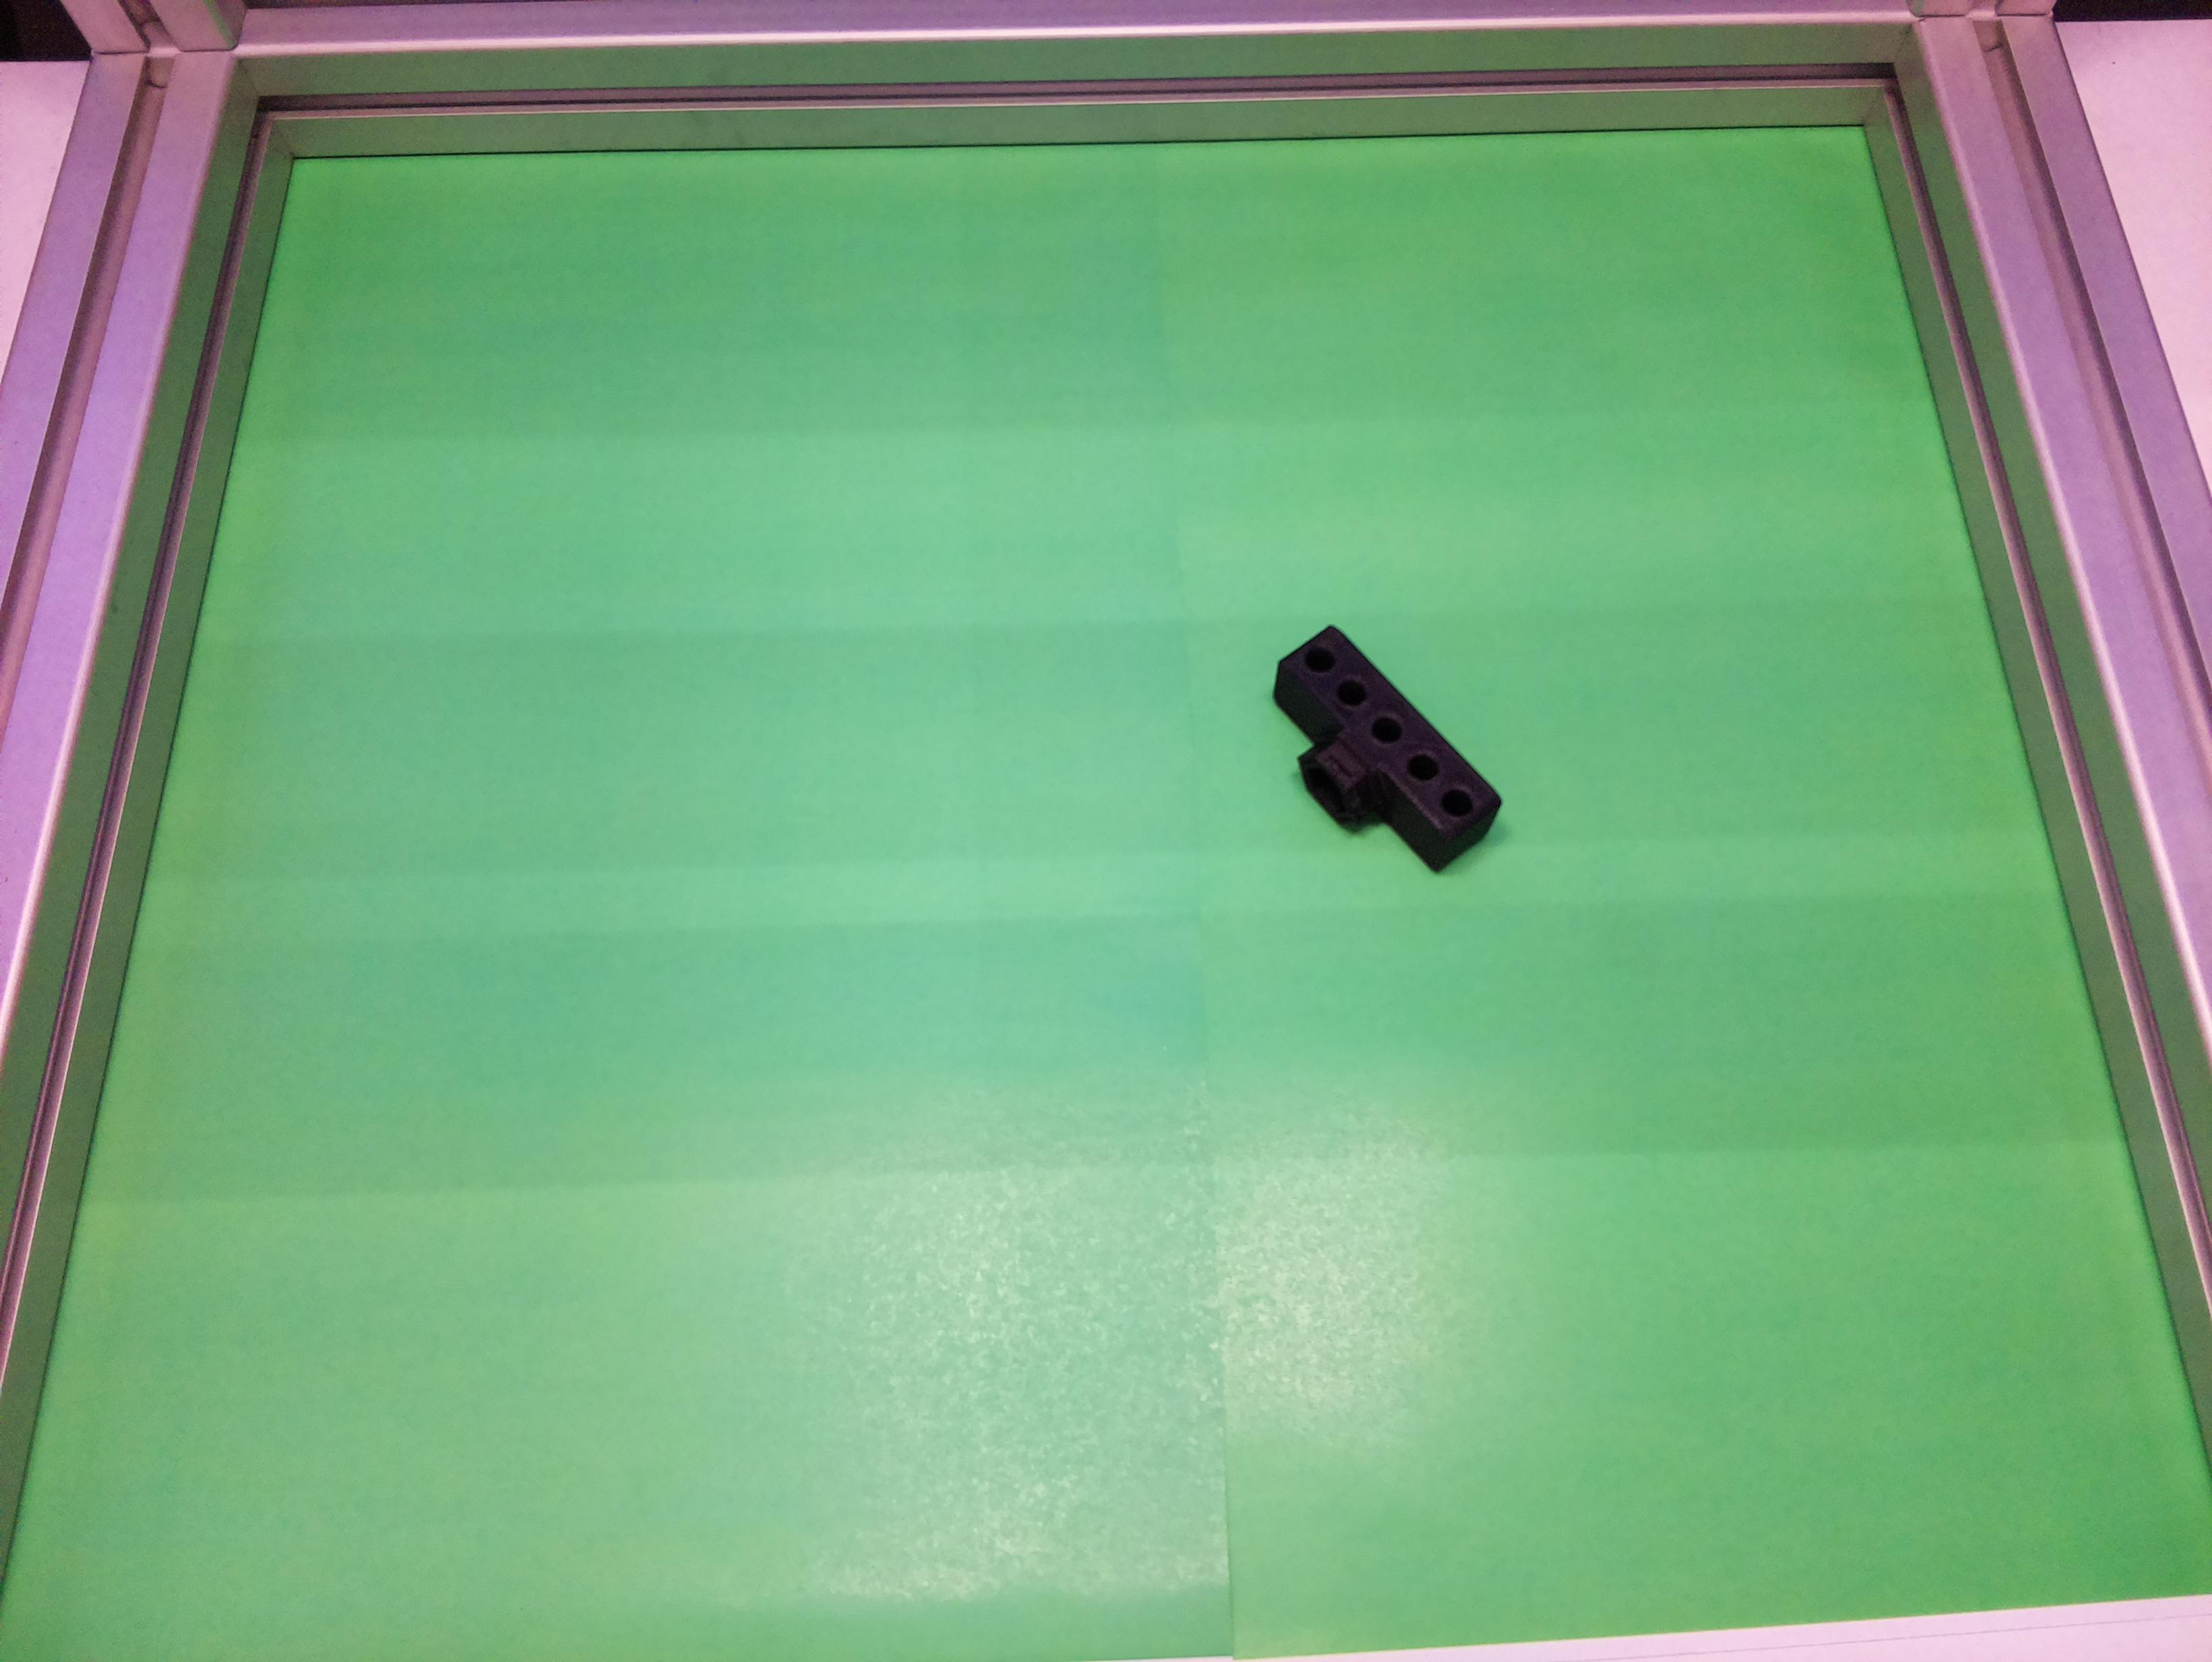bit_holder: (1229, 616, 1514, 904)
